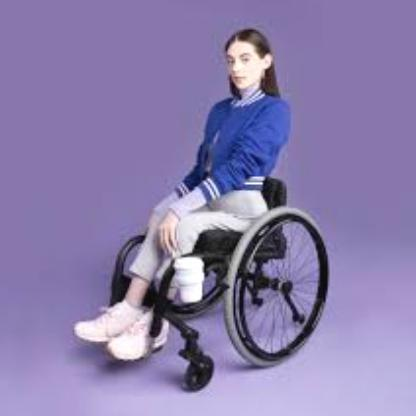person: (79, 26, 292, 372)
wheelchair: (63, 145, 348, 391)
